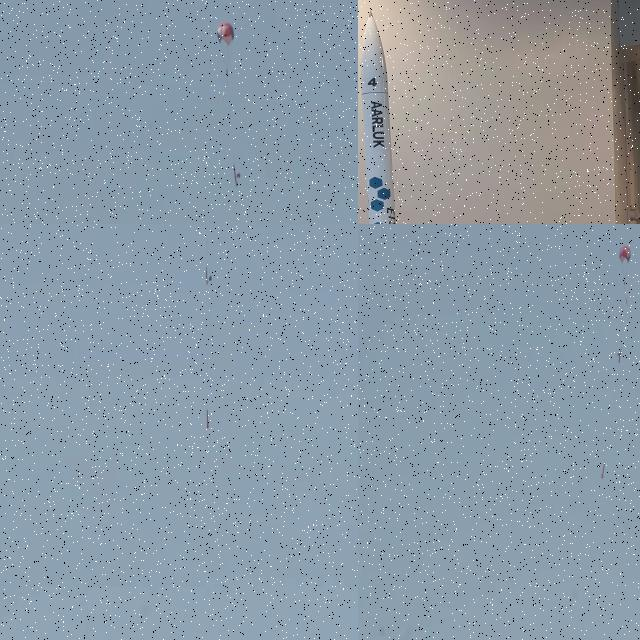Rocket: (360, 10, 396, 224), (206, 409, 210, 429), (601, 462, 605, 480)
